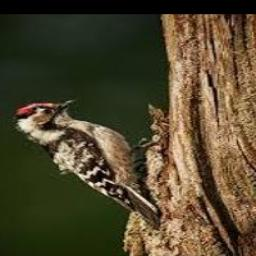Woodpecker: (13, 98, 159, 228)
